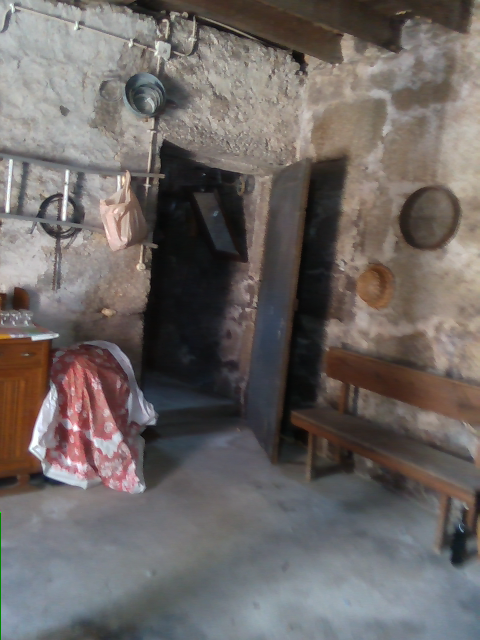open: (162, 137, 311, 457)
